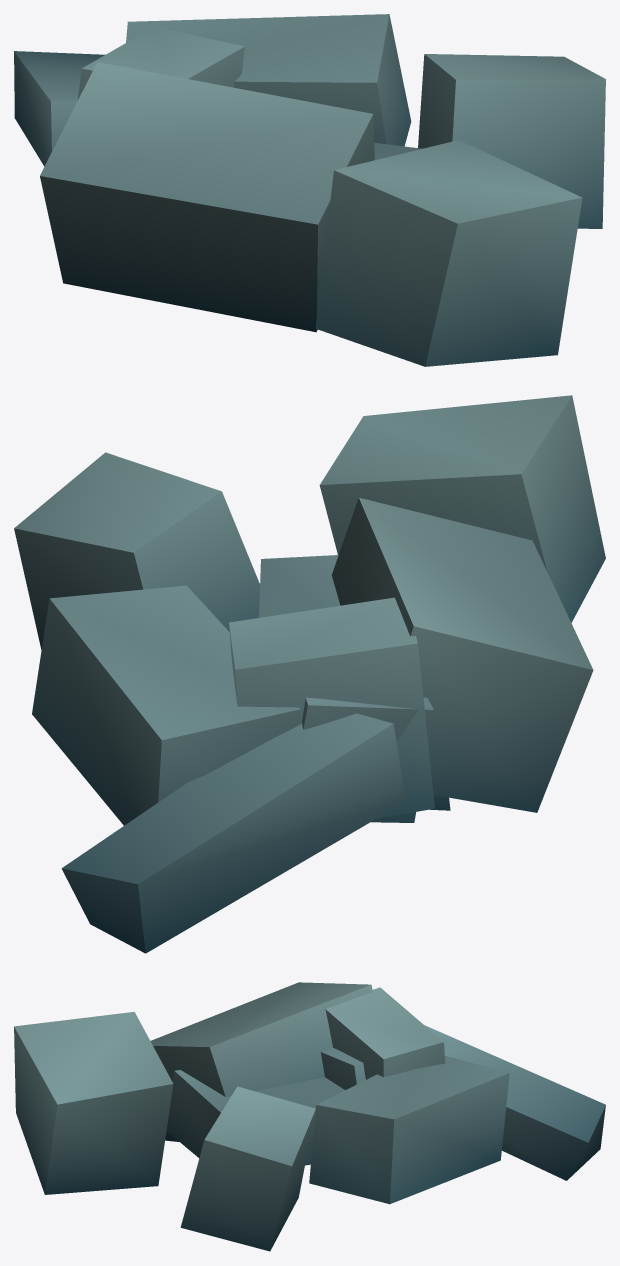
File: ruin_rubble_a.glb
The picture shows the model from 3 angles, top to bottom: view 1: azimuth 30°, elevation 25°; view 2: azimuth 150°, elevation 25°; view 3: azimuth 270°, elevation 25°; orthographic projection. The views are drawn at different scales.
Parts seen in each view (by area): view 1: ruin_rubble_a_stone; view 2: ruin_rubble_a_stone; view 3: ruin_rubble_a_stone.
Boxes of the visible parts, x1,y1,x2,y2 form: ruin_rubble_a_stone: (14, 14, 605, 366); ruin_rubble_a_stone: (14, 395, 605, 953); ruin_rubble_a_stone: (14, 982, 605, 1251).
Bounding box in the file's own units: 3.03 × 1.12 × 4.19.
